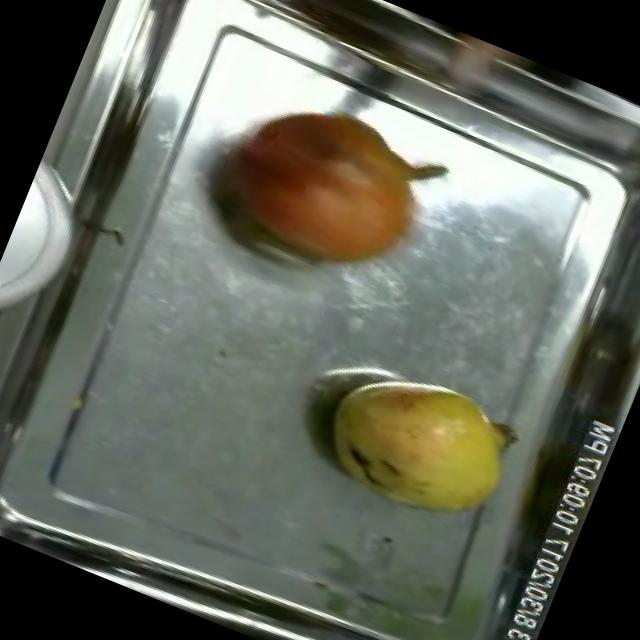fruit: (184, 66, 462, 307), (300, 336, 542, 546)
